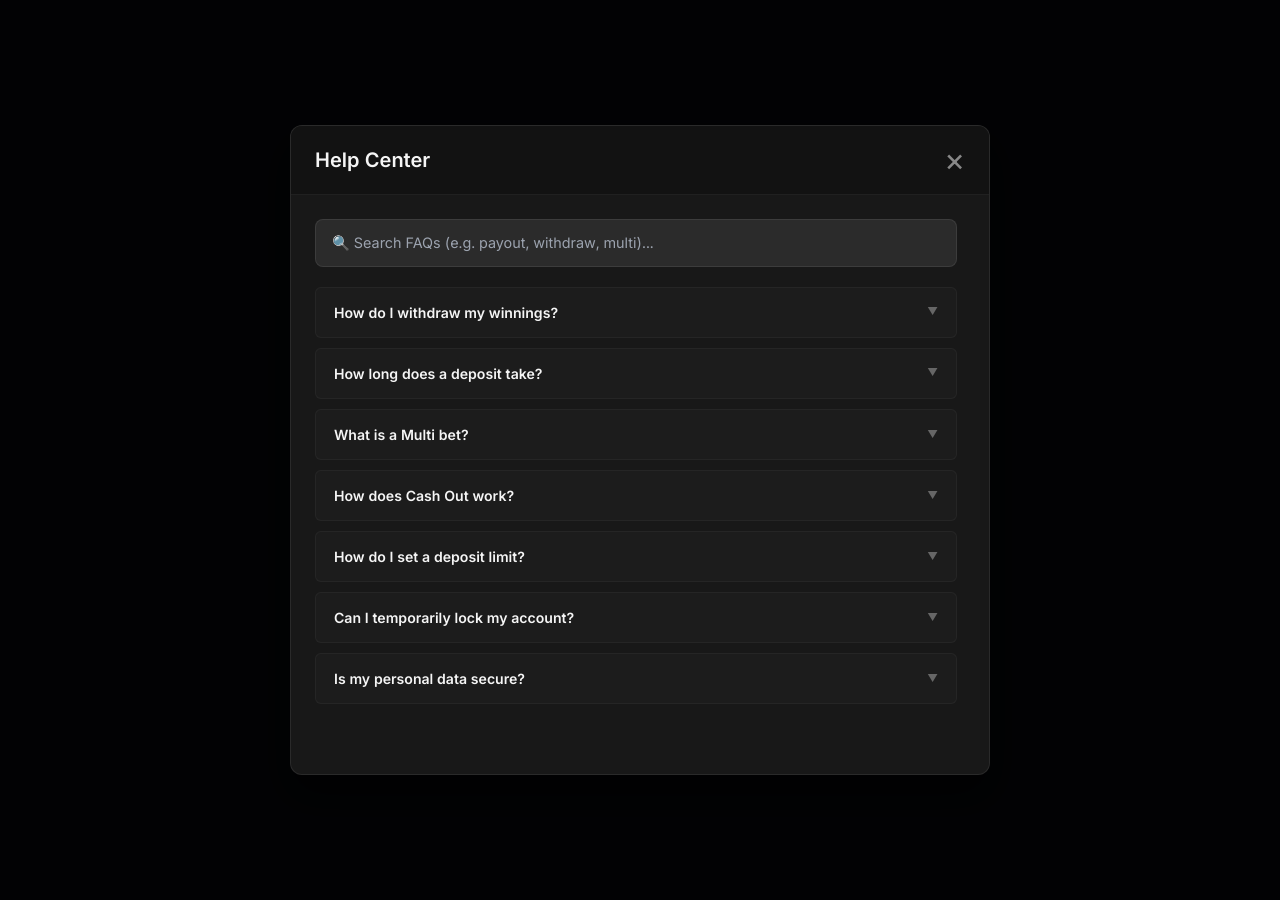
Test: FooterModal › Help Center Tab › should collapse FAQ when clicking again
The image size is (1280, 900).
Click the text "How do I withdraw my winnings?". click: point(446, 312)
box: top-left (334, 302), bottom-right (558, 323)
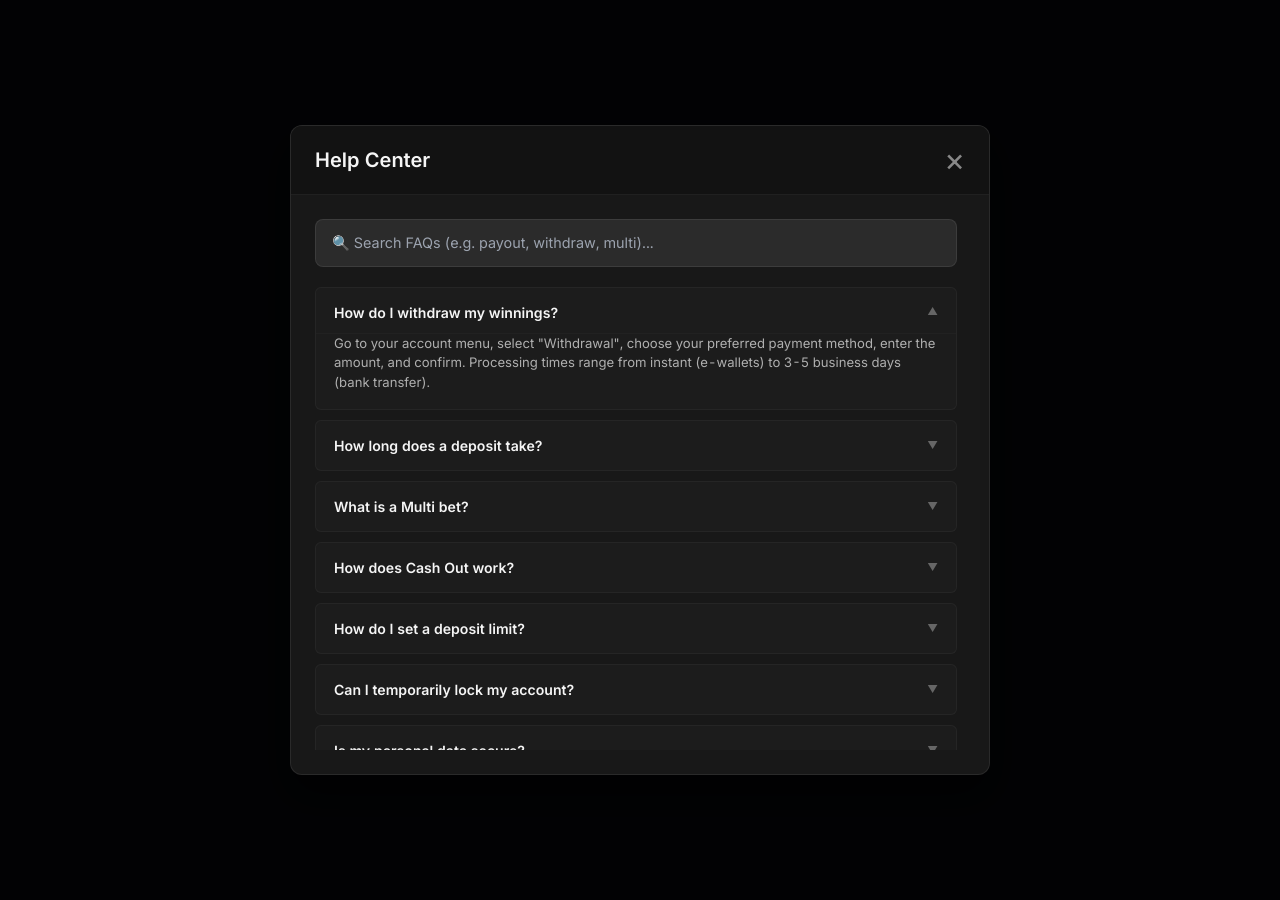
Click the text "How do I withdraw my winnings?". click: point(446, 312)
box: top-left (334, 302), bottom-right (558, 323)
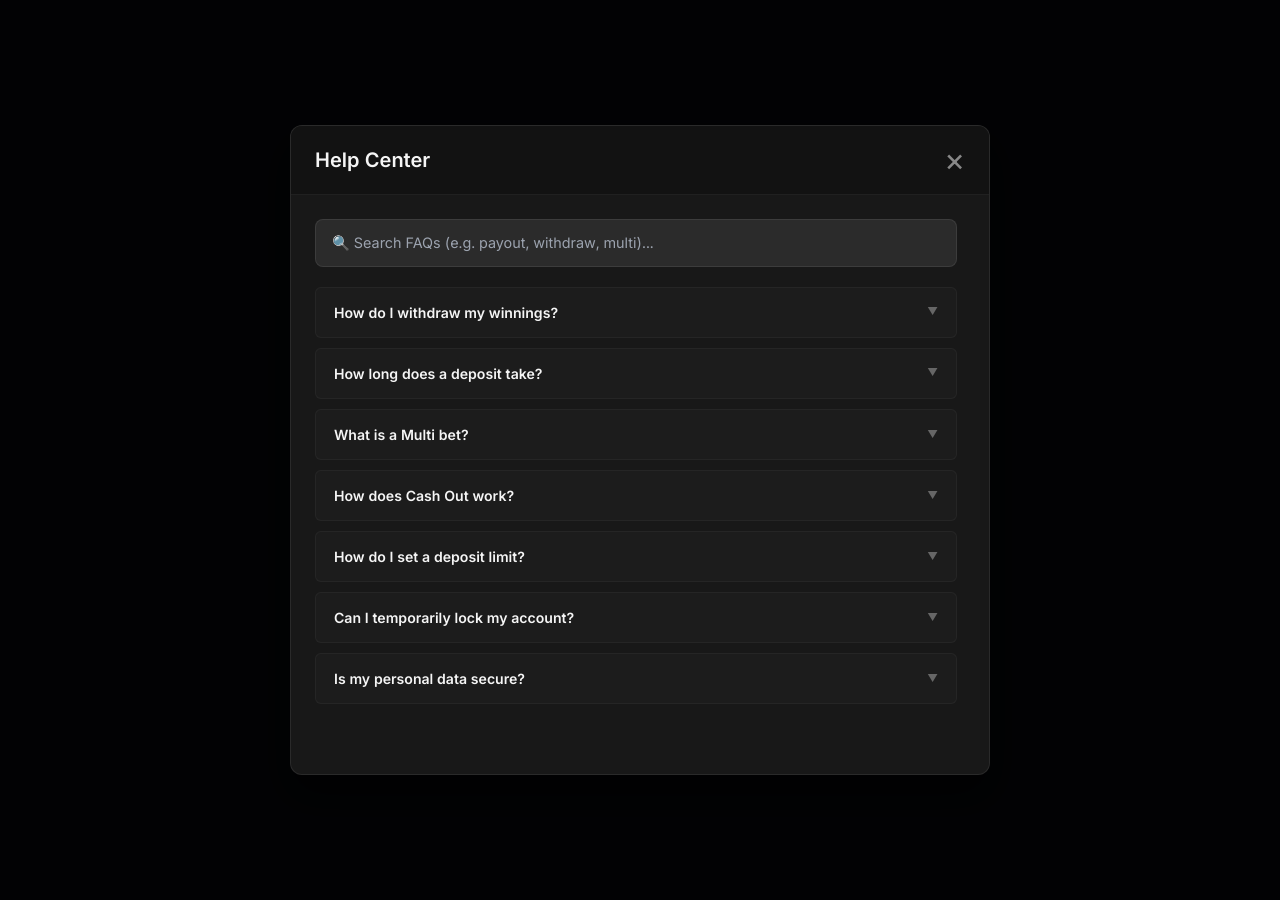
expect the text "Go to your account menu" is gone: met
